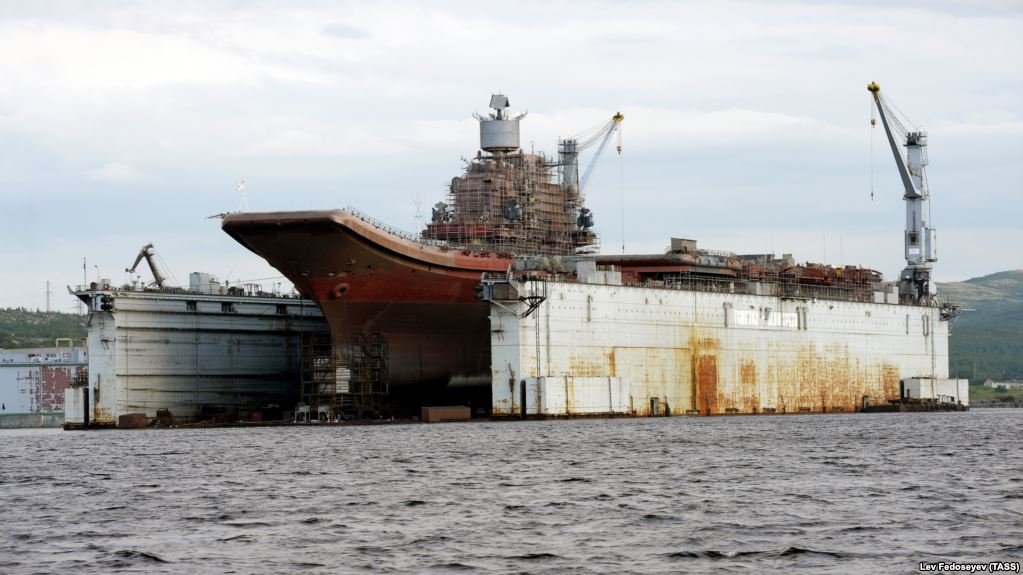rust: (308, 267, 481, 302), (682, 336, 726, 411)
